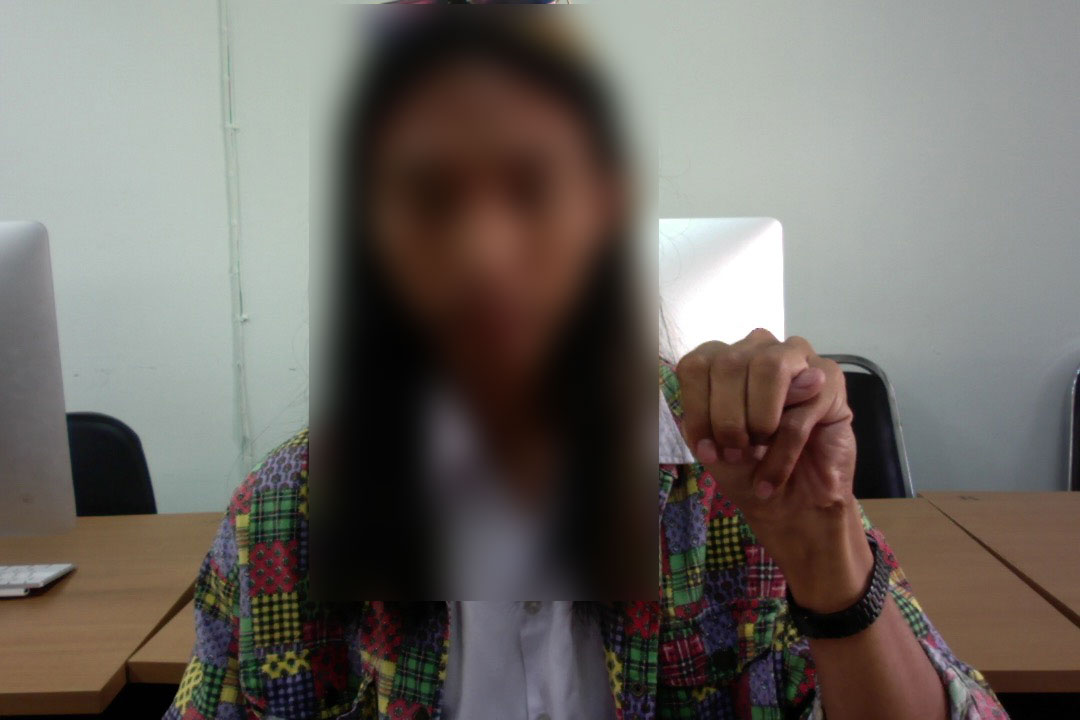mor: (666, 320, 873, 540)
